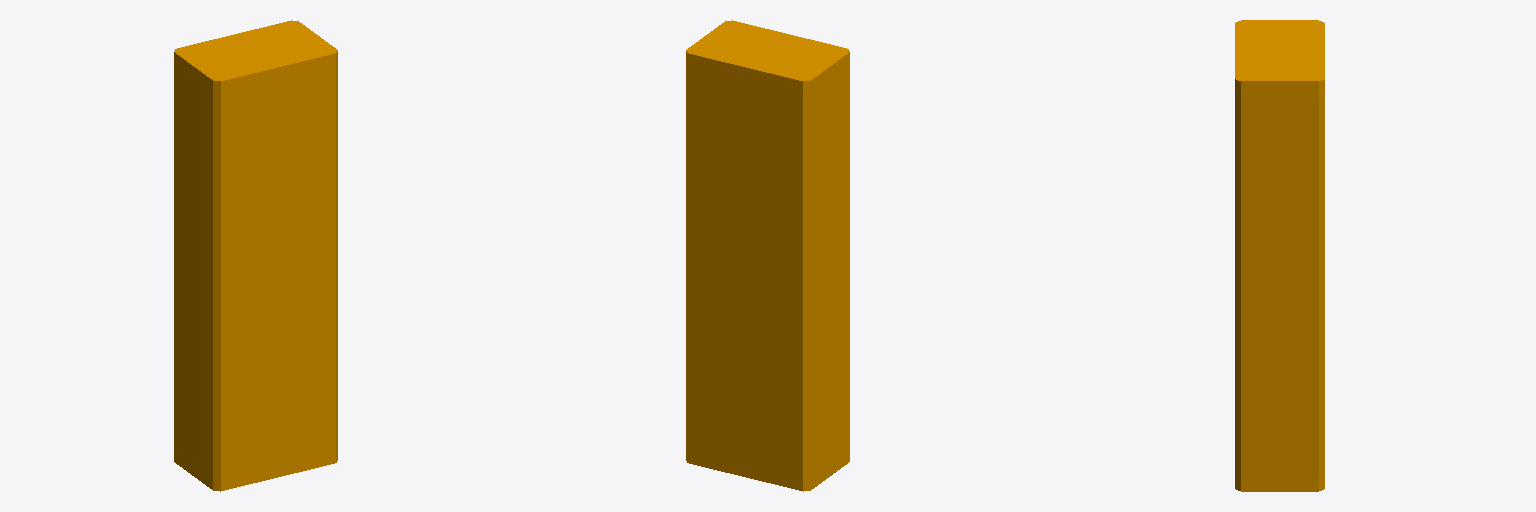
URDF robot description (factory_rectangular_peg_16mm_loose):
<?xml version="1.0"?>
<robot name="factory_rectangular_peg_16mm_loose">
    <link name="factory_rectangular_peg_16mm_loose">
        <visual>
            <geometry>
                <mesh filename="../mesh/factory_insertion/factory_rectangular_peg_16mm_loose_subdiv_3x.obj"/>
            </geometry>
        </visual>
        <collision>
            <geometry>
                <mesh filename="../mesh/factory_insertion/factory_rectangular_peg_16mm_loose_subdiv_3x.obj"/>
            </geometry>
            <sdf resolution="256"/>
        </collision>
    </link>
</robot>

--- Render facts (derived) ---
The picture shows the robot from 3 angles, left to right: view 1: azimuth 30°, elevation 25°; view 2: azimuth 150°, elevation 25°; view 3: azimuth 270°, elevation 25°; orthographic projection.
Robot: factory_rectangular_peg_16mm_loose — 1 links, 0 joints (none); root link factory_rectangular_peg_16mm_loose; default pose: all joints at 0.
Links seen in each view (by area): view 1: factory_rectangular_peg_16mm_loose; view 2: factory_rectangular_peg_16mm_loose; view 3: factory_rectangular_peg_16mm_loose.
Boxes of the visible links, x1=… form: factory_rectangular_peg_16mm_loose: x1=174, y1=20, x2=337, y2=491; factory_rectangular_peg_16mm_loose: x1=686, y1=20, x2=849, y2=491; factory_rectangular_peg_16mm_loose: x1=1235, y1=20, x2=1324, y2=491.
Size in the robot's own frame: 0.016 by 0.0099 by 0.05 metres.
Meshes: 1 distinct files referenced, 1 mesh visuals loaded (1 OBJ).